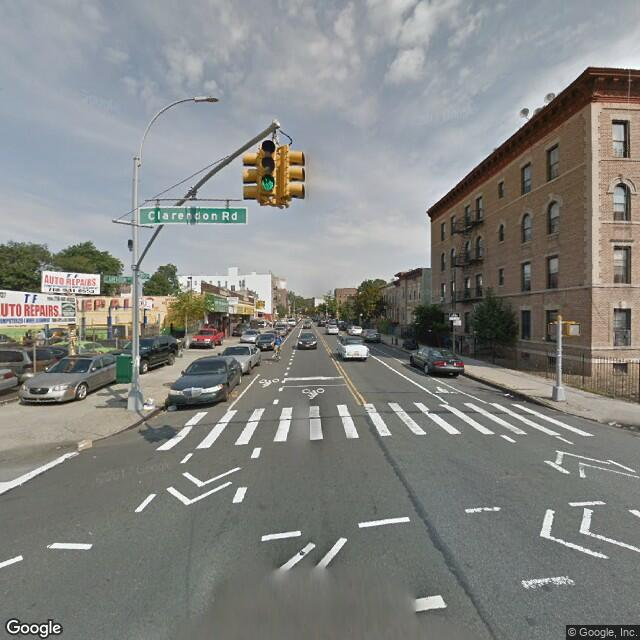litter: (141, 398, 157, 410), (499, 391, 518, 401), (609, 423, 623, 428)
